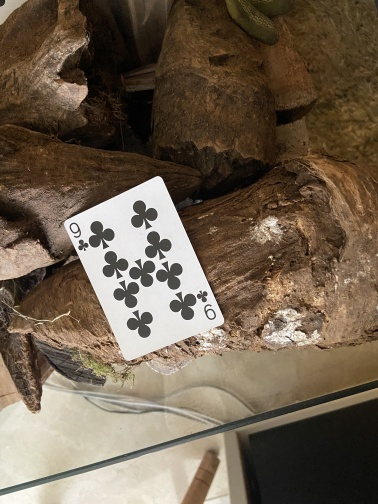nine: (61, 174, 226, 362)
